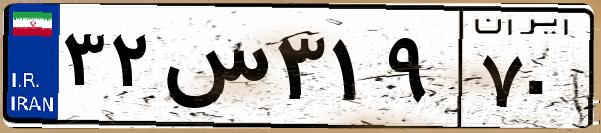0: (525, 38, 570, 115)
1: (330, 28, 385, 110)
2: (110, 28, 158, 98)
3: (270, 28, 330, 110), (57, 26, 110, 100)
7: (475, 38, 525, 113)
9: (385, 28, 445, 110)
س: (158, 20, 270, 120)
